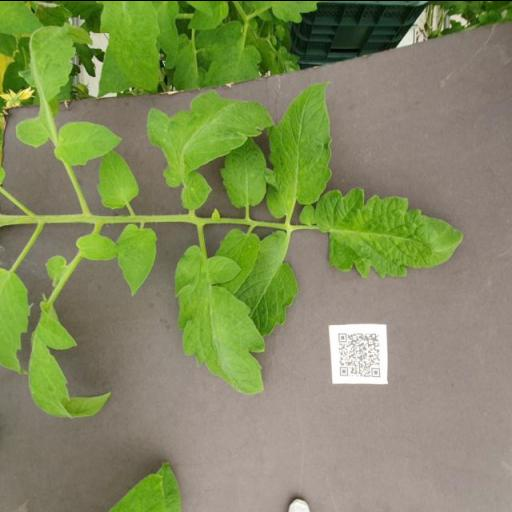Healthy: (146, 88, 274, 212), (172, 244, 268, 404), (314, 188, 464, 282), (264, 77, 336, 220), (53, 118, 126, 166), (115, 224, 161, 298), (219, 137, 269, 205), (92, 149, 142, 209), (75, 232, 121, 260)
